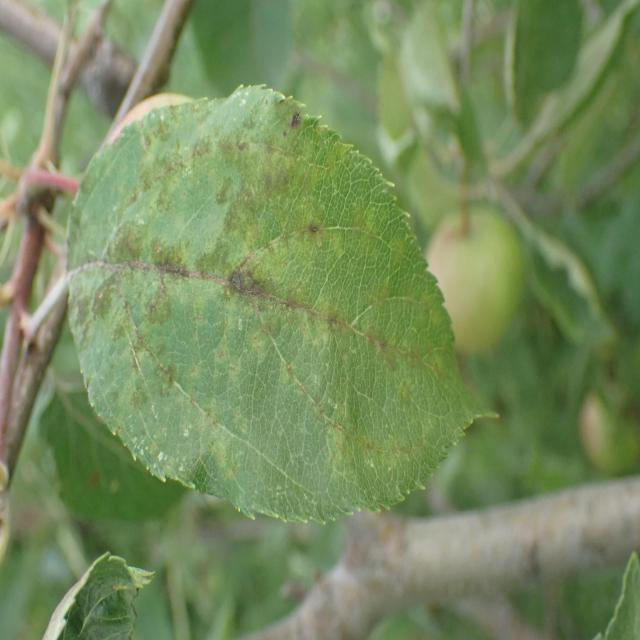scab: (68, 98, 436, 495)
